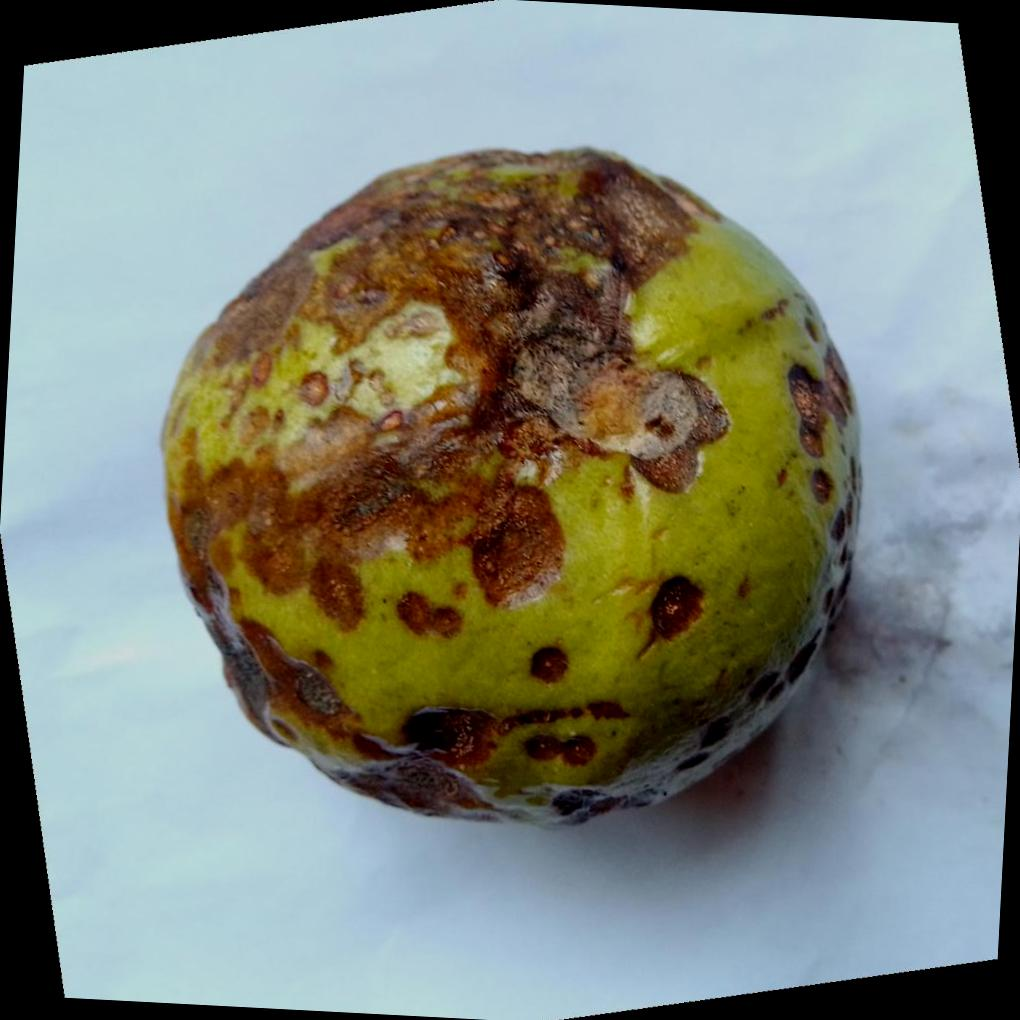FreshOrange: (153, 144, 861, 827)
